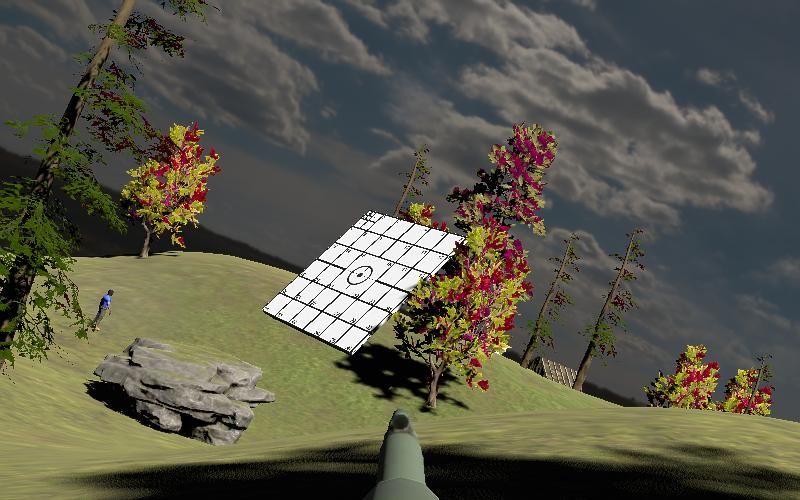Human: (90, 287, 116, 333)
